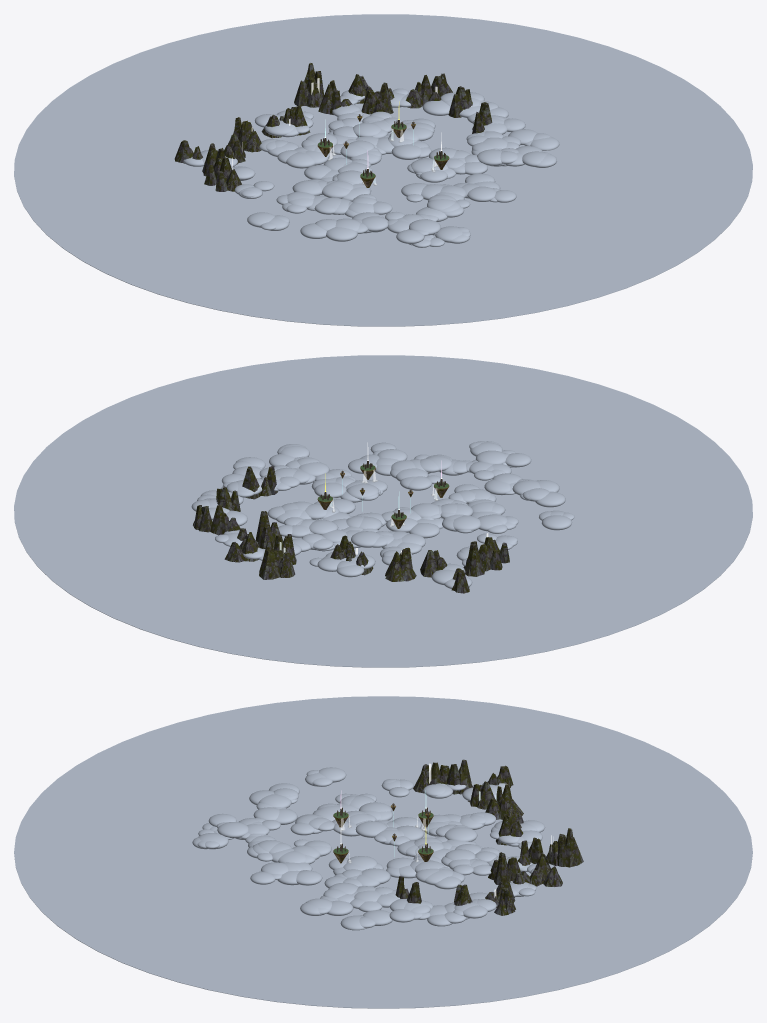
File: temple_backdrop.gltf
The picture shows the model from 3 angles, top to bottom: view 1: azimuth 30°, elevation 25°; view 2: azimuth 150°, elevation 25°; view 3: azimuth 270°, elevation 25°; orthographic projection.
Visible parts, largest first — view 1: Cloud_Sea, Cloud_Puffs, Cliffs; view 2: Cloud_Sea, Cloud_Puffs, Cliffs; view 3: Cloud_Sea, Cloud_Puffs, Cliffs.
Boxes of the visible parts, x1,y1,x2,y2 form: Cloud_Sea: [14, 14, 752, 326]; Cloud_Puffs: [183, 88, 559, 247]; Cliffs: [174, 63, 492, 191]; Cloud_Sea: [14, 355, 752, 667]; Cloud_Puffs: [191, 441, 574, 588]; Cliffs: [193, 466, 509, 593]; Cloud_Sea: [14, 696, 752, 1008]; Cloud_Puffs: [192, 767, 551, 930]; Cliffs: [395, 759, 583, 915].
Size of the model in its own units: 960 by 69.69 by 960.
16 materials, 3 textured.
